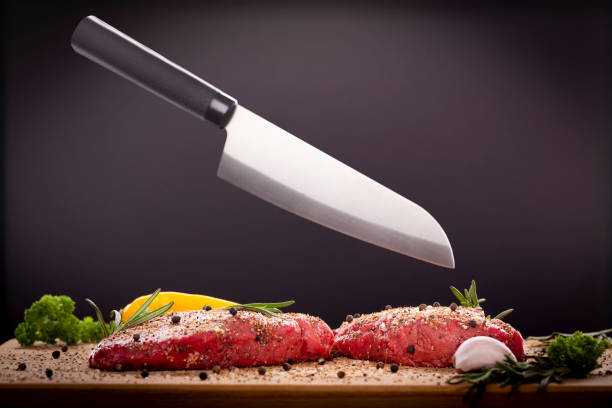knife: (67, 12, 456, 270)
